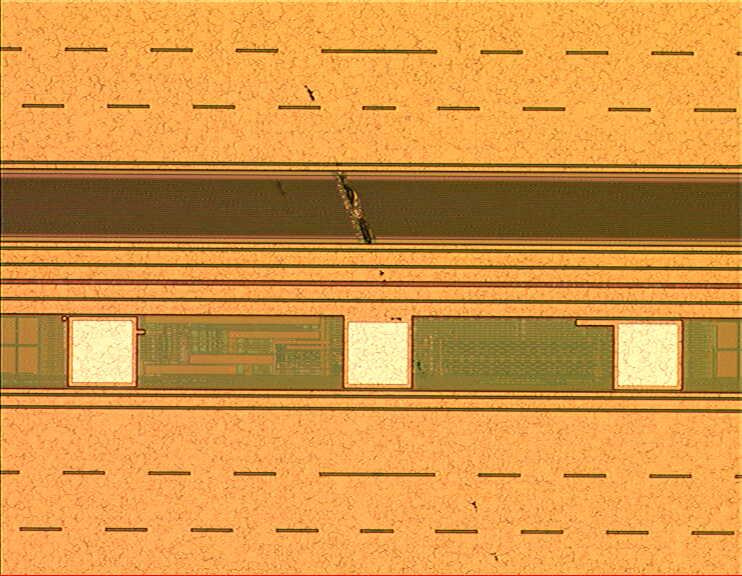SCRATCH: (284, 70, 510, 571)
